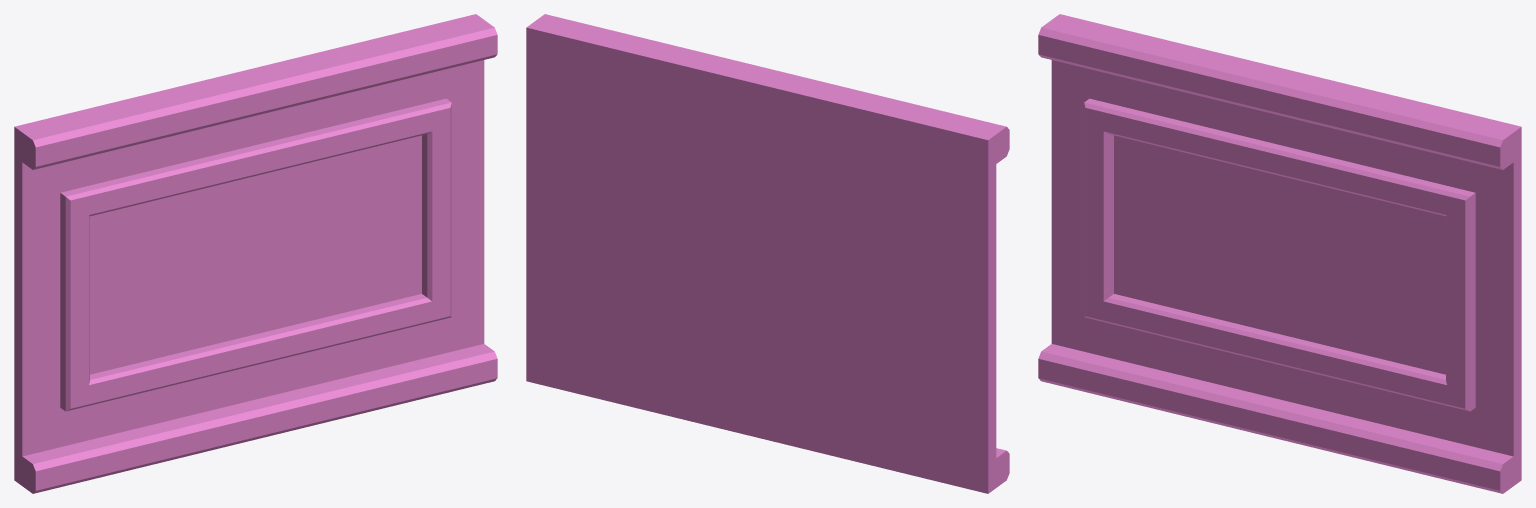
File: ENV_HAU_WALLBOTTOM_MODEL.fbx
The picture shows the model from 3 angles, left to right: view 1: azimuth 30°, elevation 25°; view 2: azimuth 150°, elevation 25°; view 3: azimuth 330°, elevation 25°; orthographic projection.
Parts seen in each view (by area): view 1: ENV_HAU_WALLBOTTOM_MODEL; view 2: ENV_HAU_WALLBOTTOM_MODEL; view 3: ENV_HAU_WALLBOTTOM_MODEL.
Boxes of the visible parts, x1,y1,x2,y2 form: ENV_HAU_WALLBOTTOM_MODEL: [14, 14, 497, 493]; ENV_HAU_WALLBOTTOM_MODEL: [526, 14, 1009, 493]; ENV_HAU_WALLBOTTOM_MODEL: [1038, 14, 1521, 493].
Bounding box in the file's own units: 100 × 73.18 × 8.02.
